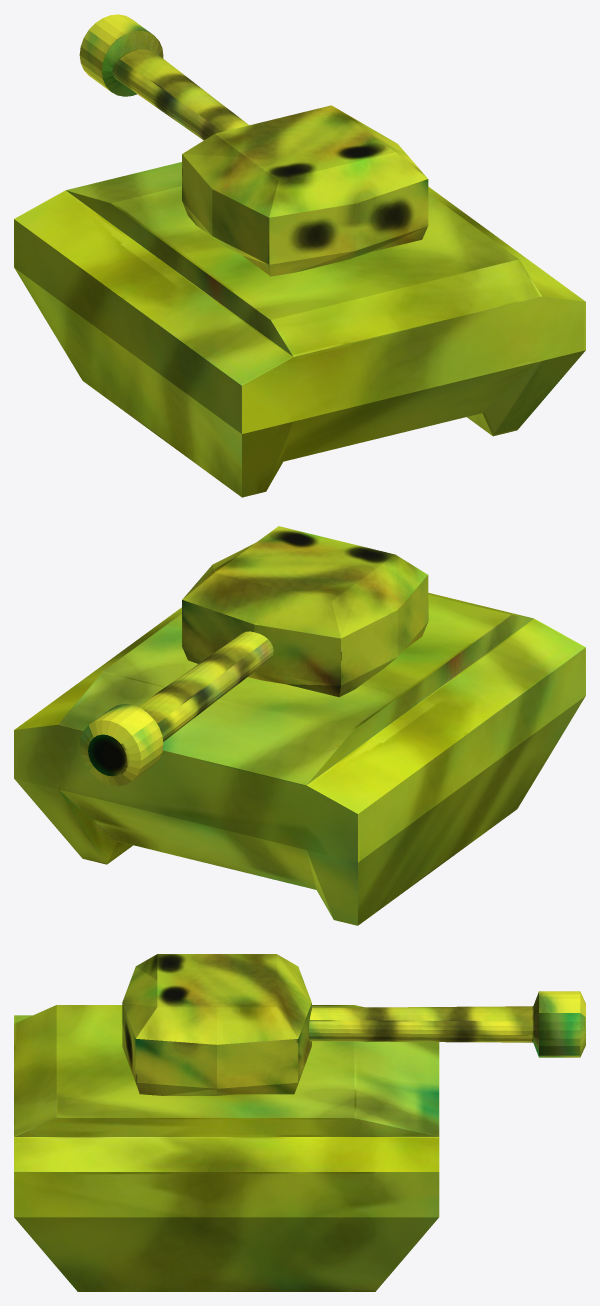
The model's file is yellowtank.dae.
The picture shows the model from 3 angles, top to bottom: view 1: azimuth 30°, elevation 25°; view 2: azimuth 150°, elevation 25°; view 3: azimuth 270°, elevation 25°; orthographic projection. The views are drawn at different scales.
Visible parts, largest first — view 1: Hull, Cylinder; view 2: Hull, Cylinder; view 3: Hull, Cylinder.
Boxes of the visible parts, box(x1,y1,x2,y2) form: Hull: box(14, 162, 585, 497); Cylinder: box(79, 14, 428, 276); Hull: box(14, 593, 585, 925); Cylinder: box(79, 526, 428, 786); Hull: box(14, 1005, 439, 1291); Cylinder: box(122, 954, 585, 1095).
Bounding box in the file's own units: 0.962 × 1.48 × 0.7117.
